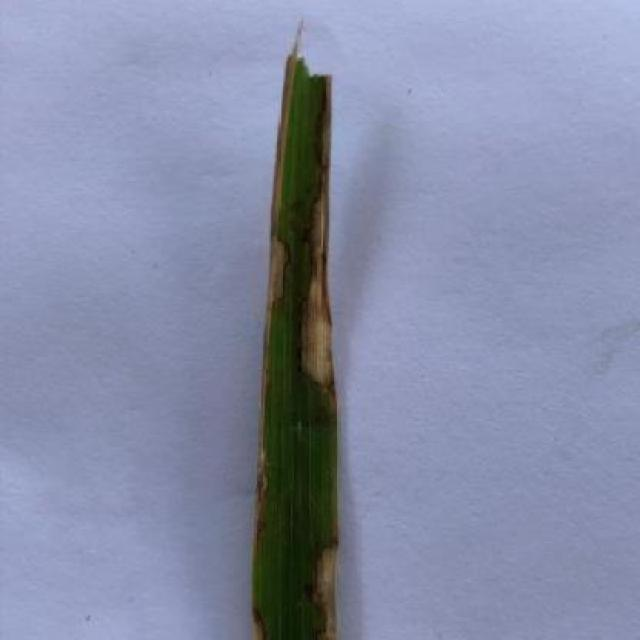Brown_Spot: (245, 15, 349, 640)
